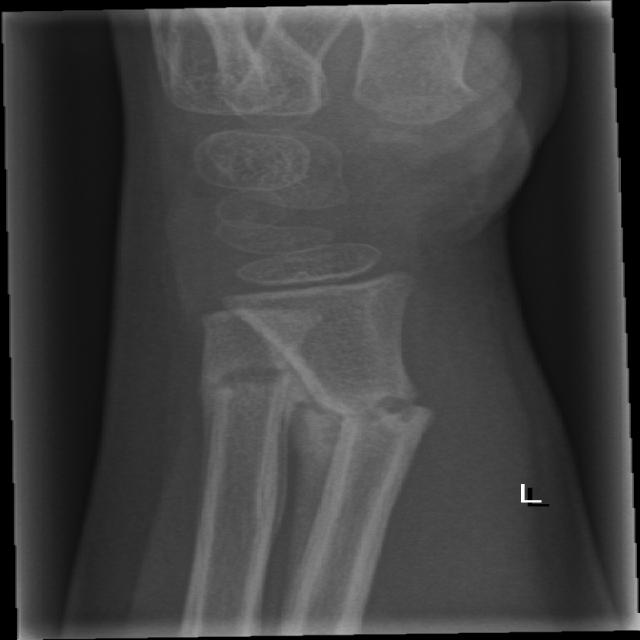radius fracture: (340, 339, 454, 489)
ulna fracture: (170, 319, 300, 459)
